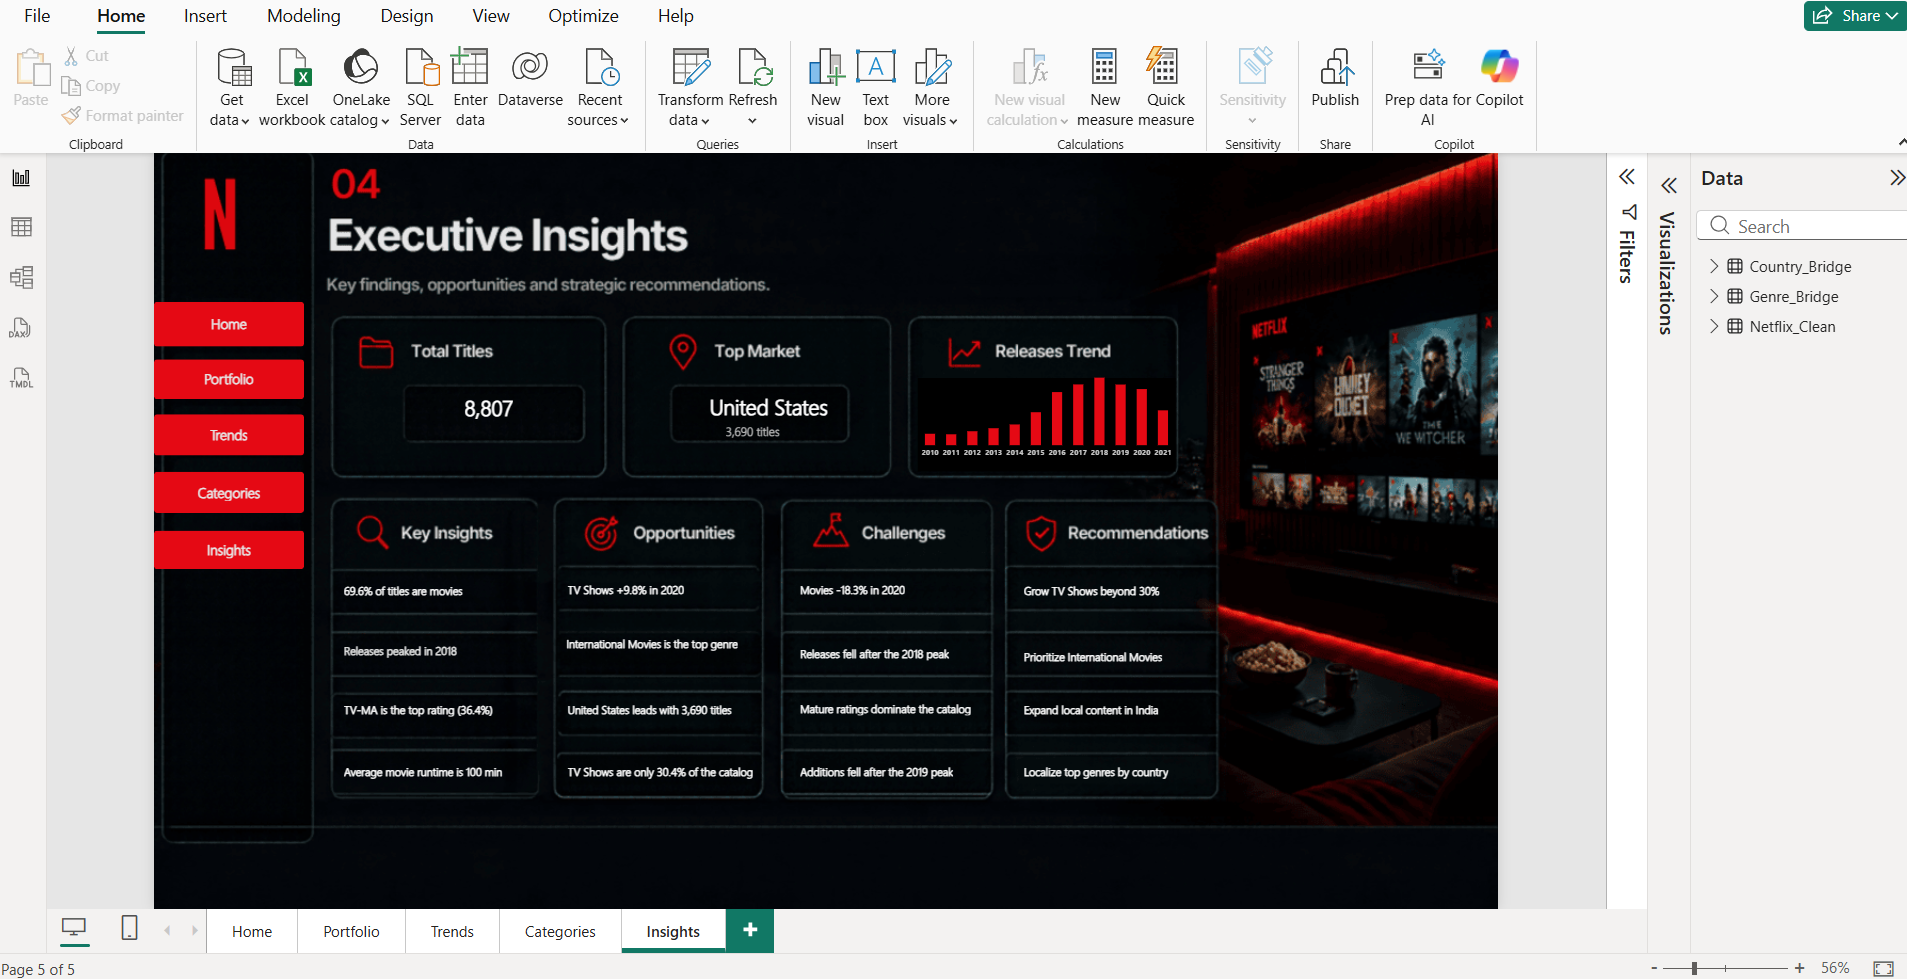

The dashboard page shown, as its layout file describes it:
{"tool":"powerbi","page":{"name":"Insights","canvas":[1920,1080],"ordinal":4},"visuals":[{"type":"actionButton","box":[0,212.5,214.3,64.3],"z":0},{"type":"cardVisual","fields":{"Data":["Netflix_Clean.Total_Titles"]},"box":[346,280,264,166],"z":1000},{"type":"cardVisual","fields":{"Data":["Netflix_Clean.Top Country"]},"box":[748,288,260,150],"z":2000},{"type":"cardVisual","fields":{"Data":["Netflix_Clean.Top Country Detail"]},"box":[748,322,214,150],"z":3000},{"type":"cardVisual","fields":{"Data":["Country_Bridge.Insight 1"]},"box":[255.2,549.6,368,150],"z":4000},{"type":"cardVisual","fields":{"Data":["Country_Bridge.Insight 2"]},"box":[255.2,636,368,150],"z":5000},{"type":"cardVisual","fields":{"Data":["Country_Bridge.Insight 3"]},"box":[255.2,720.4,368,150],"z":6000},{"type":"cardVisual","fields":{"Data":["Country_Bridge.Insight 4"]},"box":[255.2,808.9,319,150.3],"z":7000},{"type":"cardVisual","fields":{"Data":["Country_Bridge.Opportunity 1"]},"box":[574.3,547.5,368,150],"z":8000},{"type":"cardVisual","fields":{"Data":["Country_Bridge.Opportunity 2"]},"box":[588.7,640.1,304.6,123.5],"z":9000},{"type":"cardVisual","fields":{"Data":["Country_Bridge.Opportunity 3"]},"box":[574.3,720.4,368,150],"z":10000},{"type":"cardVisual","fields":{"Data":["Country_Bridge.Opportunity 4"]},"box":[574.3,808.9,319,150.3],"z":11000},{"type":"cardVisual","fields":{"Data":["Country_Bridge.Challenge 1"]},"box":[907.7,547.5,368,150],"z":12000},{"type":"cardVisual","fields":{"Data":["Country_Bridge.Challenge 2"]},"box":[907.7,640.1,368,150],"z":13000},{"type":"cardVisual","fields":{"Data":["Country_Bridge.Challenge 3"]},"box":[907.7,718.4,368,150],"z":14000},{"type":"cardVisual","fields":{"Data":["Country_Bridge.Challenge 4"]},"box":[907.7,808.9,319,150.3],"z":15000},{"type":"cardVisual","fields":{"Data":["Country_Bridge.Rec 1"]},"box":[1226.8,549.6,368,150],"z":16000},{"type":"cardVisual","fields":{"Data":["Country_Bridge.Rec 2"]},"box":[1226.8,644.3,368,150],"z":17000},{"type":"cardVisual","fields":{"Data":["Country_Bridge.Rec 3"]},"box":[1226.8,720.4,368,150],"z":18000},{"type":"cardVisual","fields":{"Data":["Country_Bridge.Rec 4"]},"box":[1226.8,808.9,319,150.3],"z":20000},{"type":"actionButton","box":[0,294.3,214.3,57.1],"z":21000},{"type":"actionButton","box":[0,372.6,214.3,58.9],"z":22000},{"type":"actionButton","box":[0,454.9,214.3,58.9],"z":23000},{"type":"actionButton","box":[0,539.3,214.3,55.4],"z":24000},{"type":"shape","box":[1090.9,321.1,368.4,133.8],"z":25000},{"type":"columnChart","fields":{"Category":["Netflix_Clean.release_year"],"Y":["Netflix_Clean.Total_Titles"]},"box":[1073.3,267.3,404.1,188.2],"z":25500}]}

Visuals, with their boxes on the page's 1920x1080 design canvas (x1, y1, x2, y2). These are canvas units, not pixel positions in the 1907x979 screenshot, which may show the page scaled, cropped or inside an application window:
actionButton: Rect(0, 212, 214, 277)
cardVisual - Netflix_Clean.Total_Titles: Rect(346, 280, 610, 446)
cardVisual - Netflix_Clean.Top Country: Rect(748, 288, 1008, 438)
cardVisual - Netflix_Clean.Top Country Detail: Rect(748, 322, 962, 472)
cardVisual - Country_Bridge.Insight 1: Rect(255, 550, 623, 700)
cardVisual - Country_Bridge.Insight 2: Rect(255, 636, 623, 786)
cardVisual - Country_Bridge.Insight 3: Rect(255, 720, 623, 870)
cardVisual - Country_Bridge.Insight 4: Rect(255, 809, 574, 959)
cardVisual - Country_Bridge.Opportunity 1: Rect(574, 548, 942, 698)
cardVisual - Country_Bridge.Opportunity 2: Rect(589, 640, 893, 764)
cardVisual - Country_Bridge.Opportunity 3: Rect(574, 720, 942, 870)
cardVisual - Country_Bridge.Opportunity 4: Rect(574, 809, 893, 959)
cardVisual - Country_Bridge.Challenge 1: Rect(908, 548, 1276, 698)
cardVisual - Country_Bridge.Challenge 2: Rect(908, 640, 1276, 790)
cardVisual - Country_Bridge.Challenge 3: Rect(908, 718, 1276, 868)
cardVisual - Country_Bridge.Challenge 4: Rect(908, 809, 1227, 959)
cardVisual - Country_Bridge.Rec 1: Rect(1227, 550, 1595, 700)
cardVisual - Country_Bridge.Rec 2: Rect(1227, 644, 1595, 794)
cardVisual - Country_Bridge.Rec 3: Rect(1227, 720, 1595, 870)
cardVisual - Country_Bridge.Rec 4: Rect(1227, 809, 1546, 959)
actionButton: Rect(0, 294, 214, 351)
actionButton: Rect(0, 373, 214, 432)
actionButton: Rect(0, 455, 214, 514)
actionButton: Rect(0, 539, 214, 595)
shape: Rect(1091, 321, 1459, 455)
columnChart - Netflix_Clean.release_year x Netflix_Clean.Total_Titles: Rect(1073, 267, 1477, 456)
